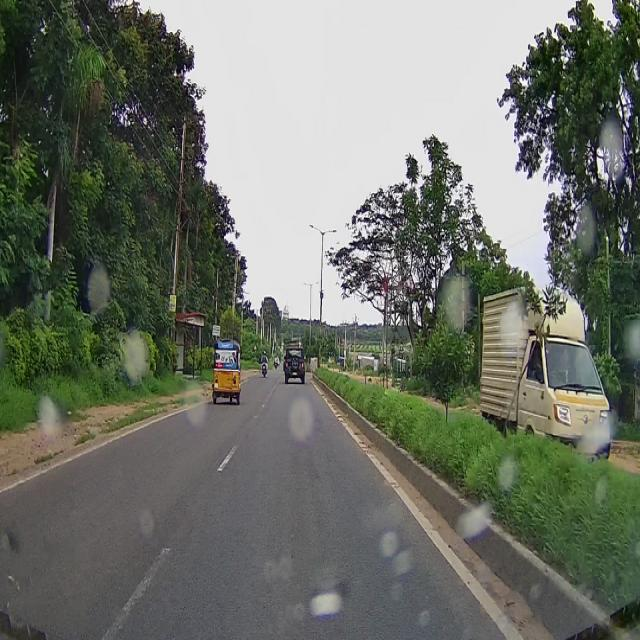auto ahead at: (208, 329, 245, 413)
car ahead at: (282, 343, 308, 389)
